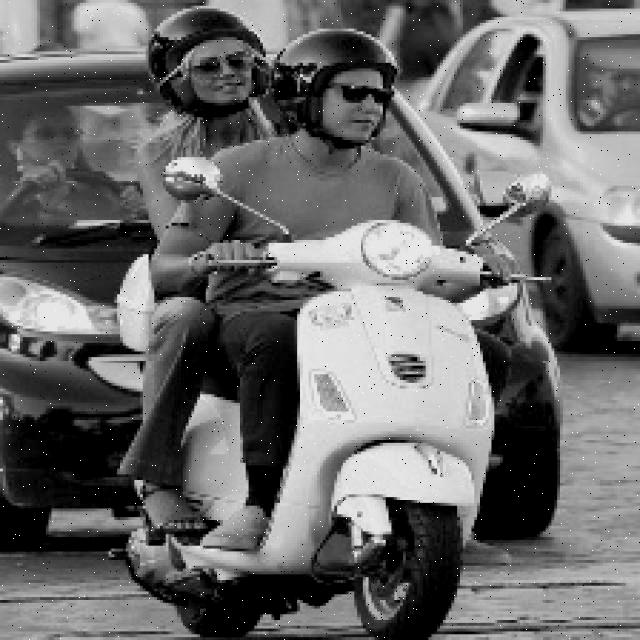Bike: (238, 226, 528, 639)
